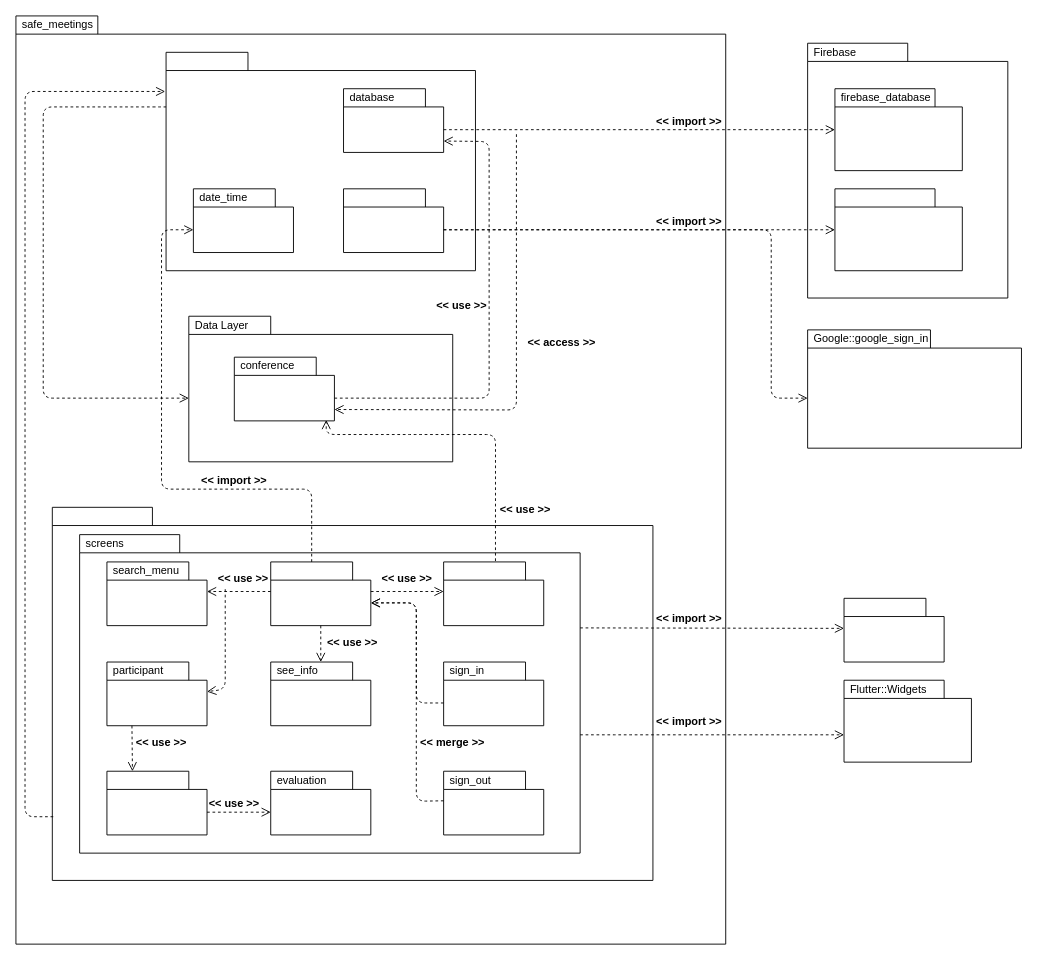
This 1037x960 diagram has some shape labels left out. Here are the shapes that lost their labels. From the top down, the box of each, then its label:
(165, 51, 475, 271): Business Layer
(343, 188, 444, 253): authentication
(834, 188, 962, 271): firebase_auth
(270, 561, 371, 626): home
(443, 561, 544, 626): loading
(843, 597, 944, 662): dart::ui::color
(51, 506, 653, 880): Presentation Layer
(106, 770, 207, 835): insert_code
